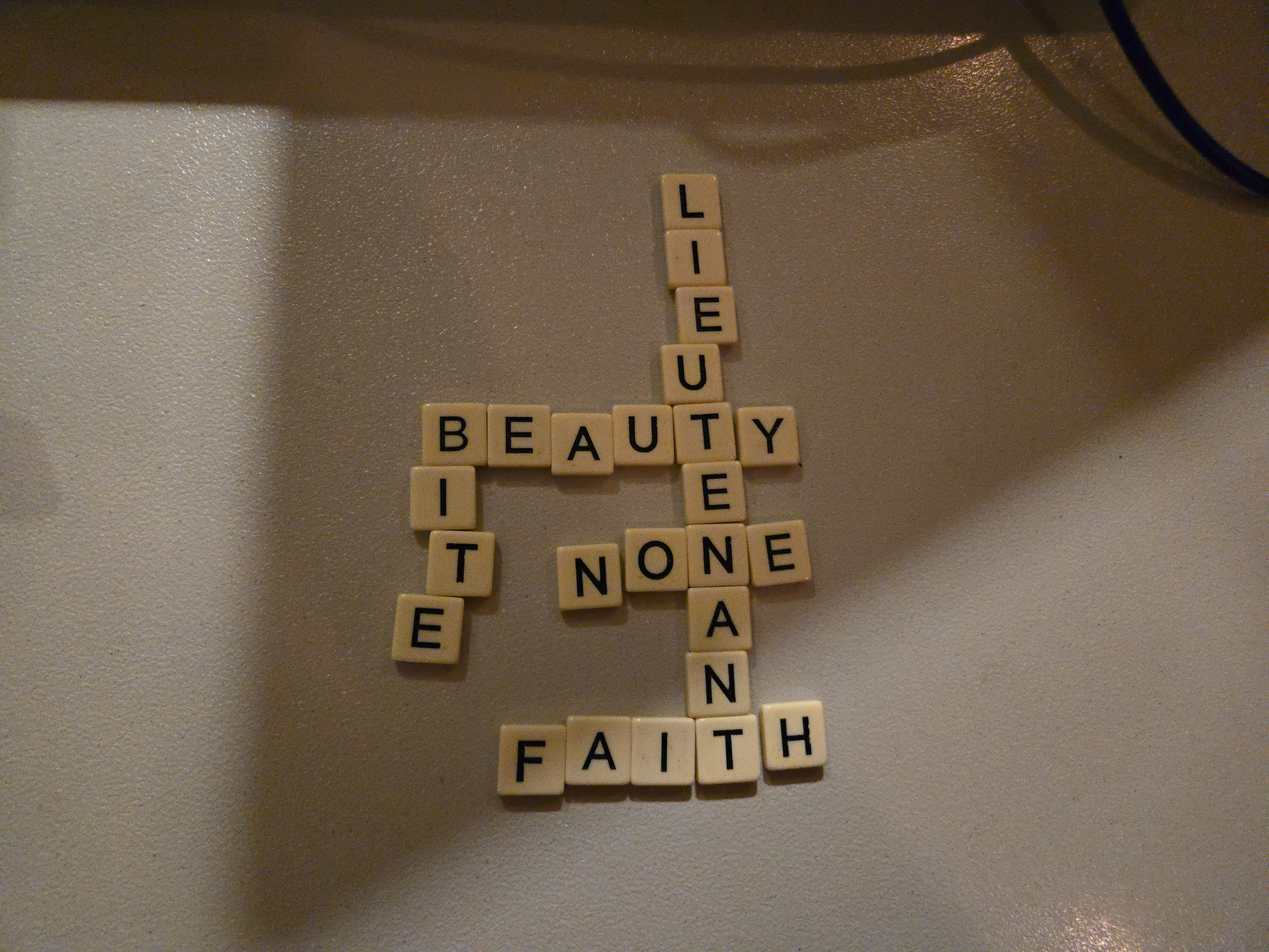Tile: (391, 594, 464, 664), (497, 724, 566, 795), (425, 530, 495, 597), (761, 700, 826, 771), (565, 716, 631, 785), (696, 714, 760, 784), (557, 543, 623, 610), (630, 717, 695, 785), (686, 651, 751, 717), (687, 586, 752, 652), (410, 466, 477, 530), (747, 520, 811, 586), (421, 403, 487, 466), (625, 528, 688, 592), (487, 404, 551, 467), (682, 461, 746, 524), (686, 523, 749, 587), (551, 413, 614, 475), (674, 402, 736, 463), (661, 344, 724, 404), (736, 406, 799, 466), (665, 229, 727, 289), (675, 285, 738, 344), (613, 405, 674, 465), (661, 174, 721, 229), (750, 536, 753, 552), (746, 645, 747, 647)
